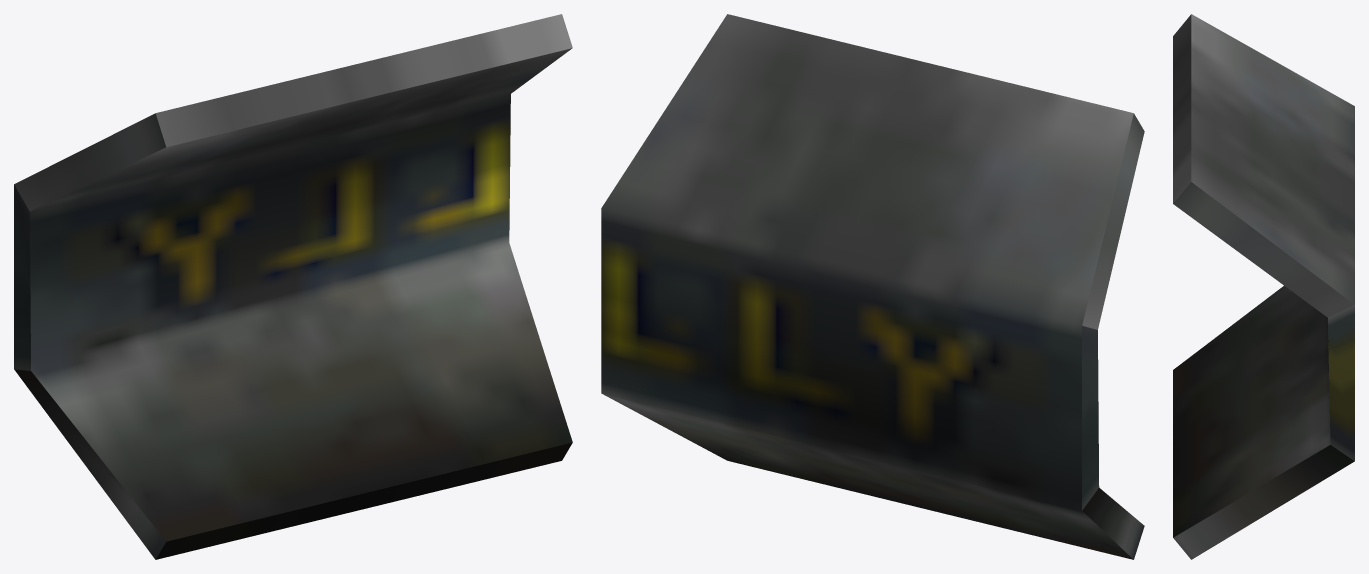
Rendered from Shared - Armor - Tanker Truck - Damage State 37 - CVTanker_d37.glb.
The picture shows the model from 3 angles, left to right: view 1: azimuth 30°, elevation 25°; view 2: azimuth 150°, elevation 25°; view 3: azimuth 270°, elevation 25°; orthographic projection. The views are drawn at different scales.
Visible parts, largest first — view 1: CVTANKER_D37; view 2: CVTANKER_D37; view 3: CVTANKER_D37.
Boxes of the visible parts, <box> form: CVTANKER_D37: <box>14,14,572,559</box>; CVTANKER_D37: <box>601,14,1144,559</box>; CVTANKER_D37: <box>1173,14,1354,559</box>.
Size of the model in its own units: 9.01 by 8 by 3.49.
Materials: 1 (1 with a texture image).
